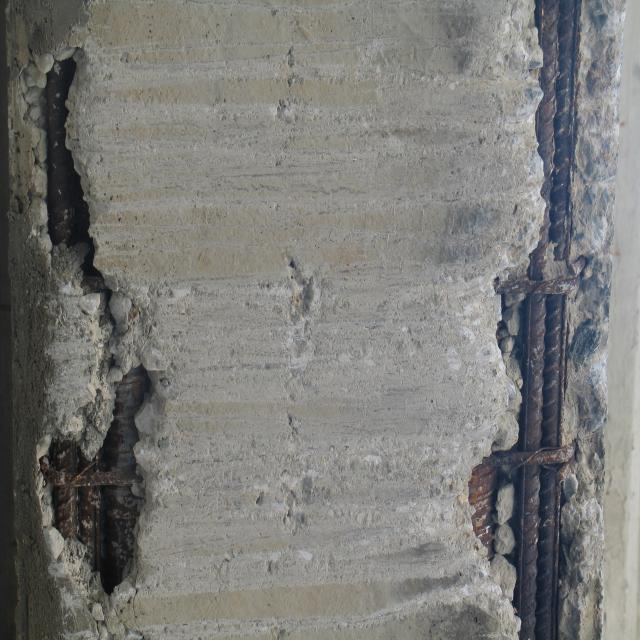corrosion: (467, 9, 640, 640), (20, 20, 164, 620)
